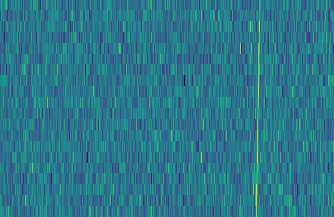signal: (253, 0, 265, 217)
